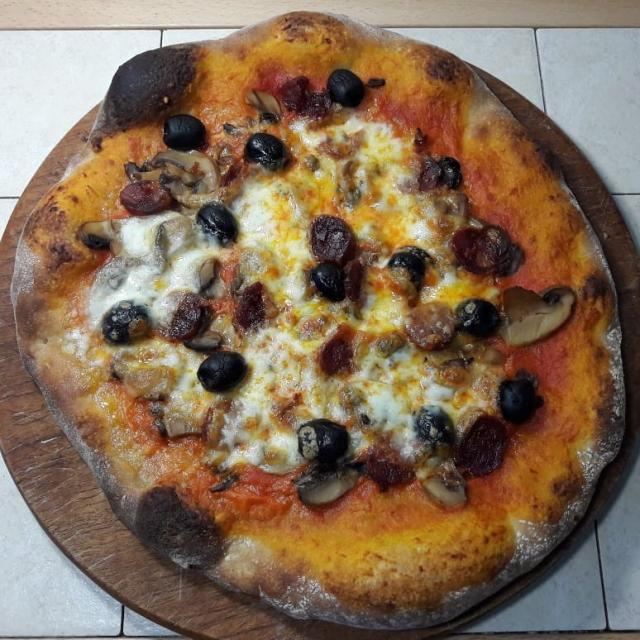black_olives: (298, 417, 351, 469), (198, 348, 250, 397), (500, 371, 545, 424), (102, 296, 148, 346), (386, 248, 426, 305), (411, 403, 455, 454), (453, 297, 505, 339), (243, 130, 291, 175), (164, 108, 210, 154), (194, 202, 239, 246), (324, 68, 368, 110), (311, 258, 356, 298)
mushrooms: (76, 210, 199, 272), (501, 283, 576, 349), (150, 143, 227, 194), (412, 454, 468, 514), (297, 462, 363, 506), (243, 88, 282, 126)
pizza: (9, 12, 624, 634)
